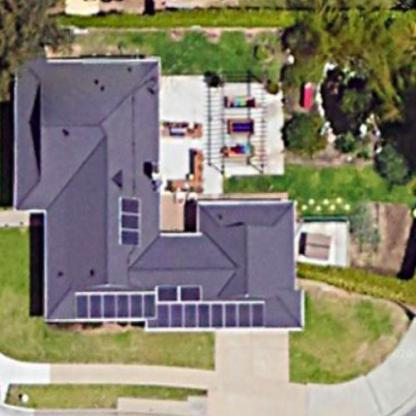solar_panel: (71, 280, 280, 341), (117, 188, 149, 251)
